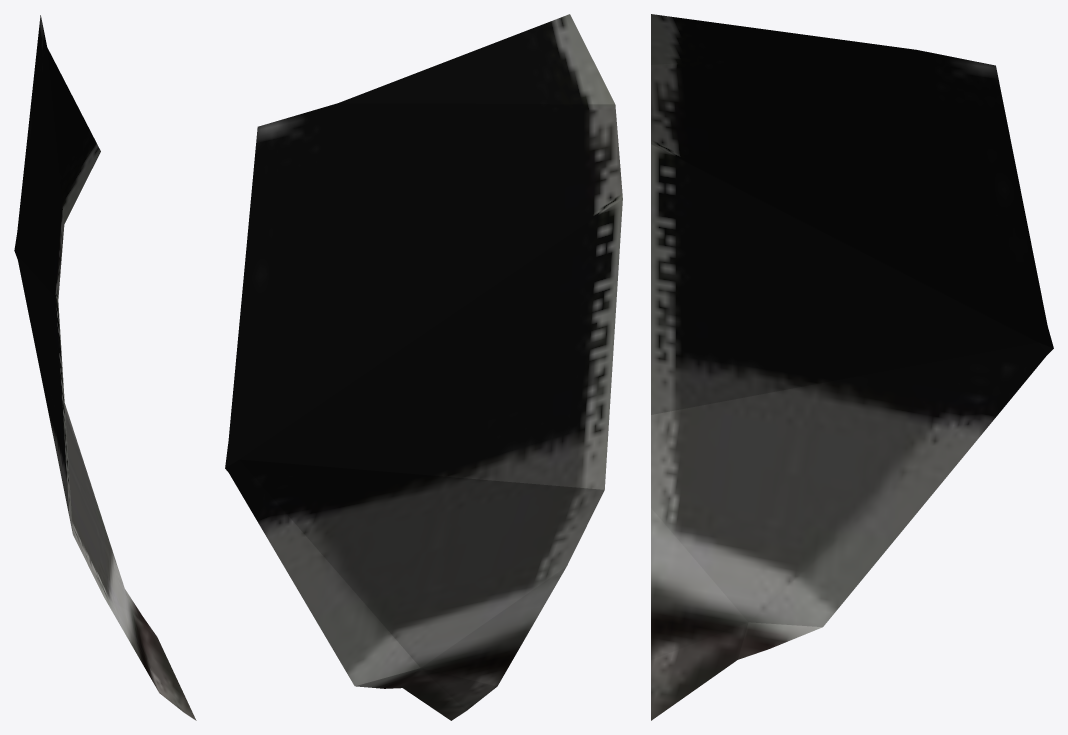
3 views of the same model, side by side, from view 1: azimuth 30°, elevation 25°; view 2: azimuth 150°, elevation 25°; view 3: azimuth 270°, elevation 25° (orthographic). The views are drawn at different scales.
Size of the model in its own units: 0.3782 by 1.55 by 0.8635.
1 material, 1 textured.
